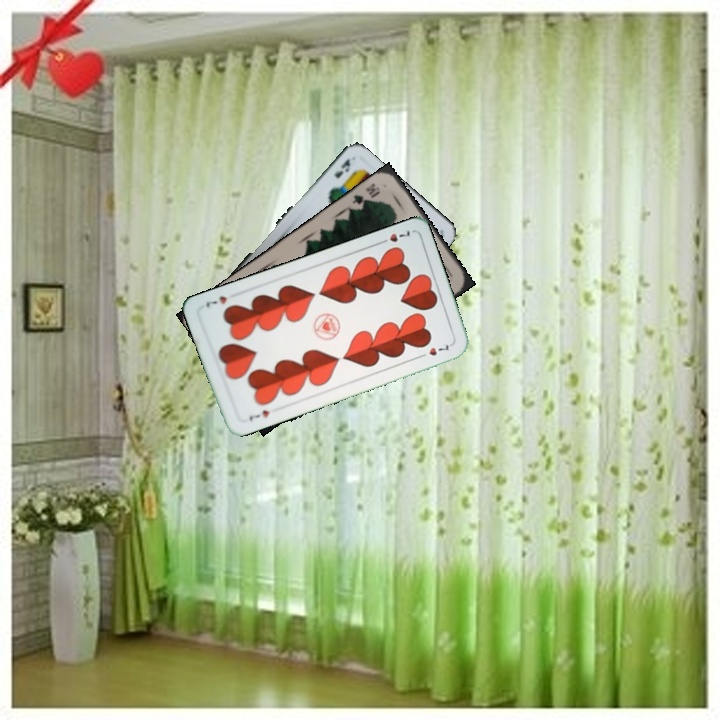EK: (330, 154, 353, 181)
G10: (348, 179, 383, 209)
H7: (375, 226, 413, 247), (245, 406, 273, 423)
